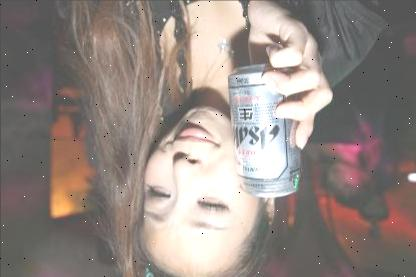Can: (218, 54, 314, 206)
